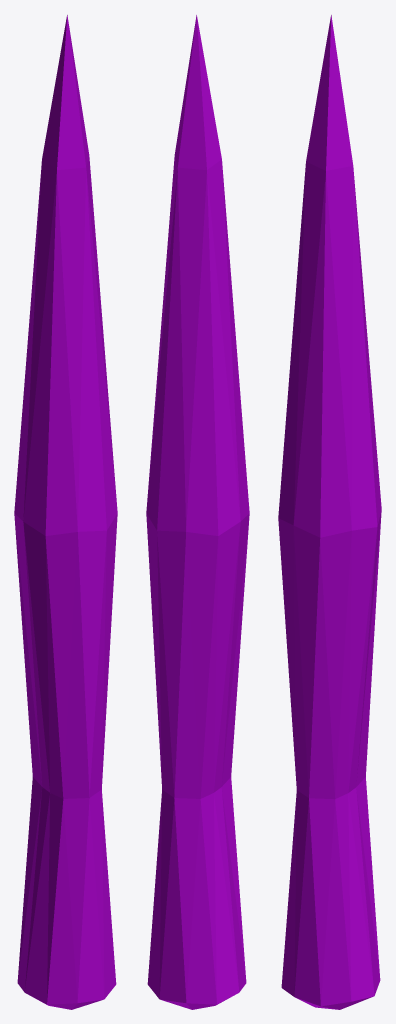
File: SharpMesh1.fbx
3 views of the same model, side by side, from view 1: azimuth 30°, elevation 25°; view 2: azimuth 150°, elevation 25°; view 3: azimuth 330°, elevation 25° (orthographic).
Parts seen in each view (by area): view 1: SharpMesh; view 2: SharpMesh; view 3: SharpMesh.
Boxes of the visible parts, x1,y1,x2,y2 form: SharpMesh: (14,15,117,1009); SharpMesh: (146,15,249,1009); SharpMesh: (278,15,381,1009).
Size of the model in its own units: 49.07 by 516 by 47.84.
